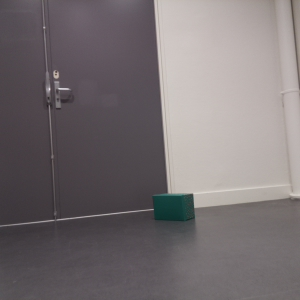small: (150, 191, 197, 224)
